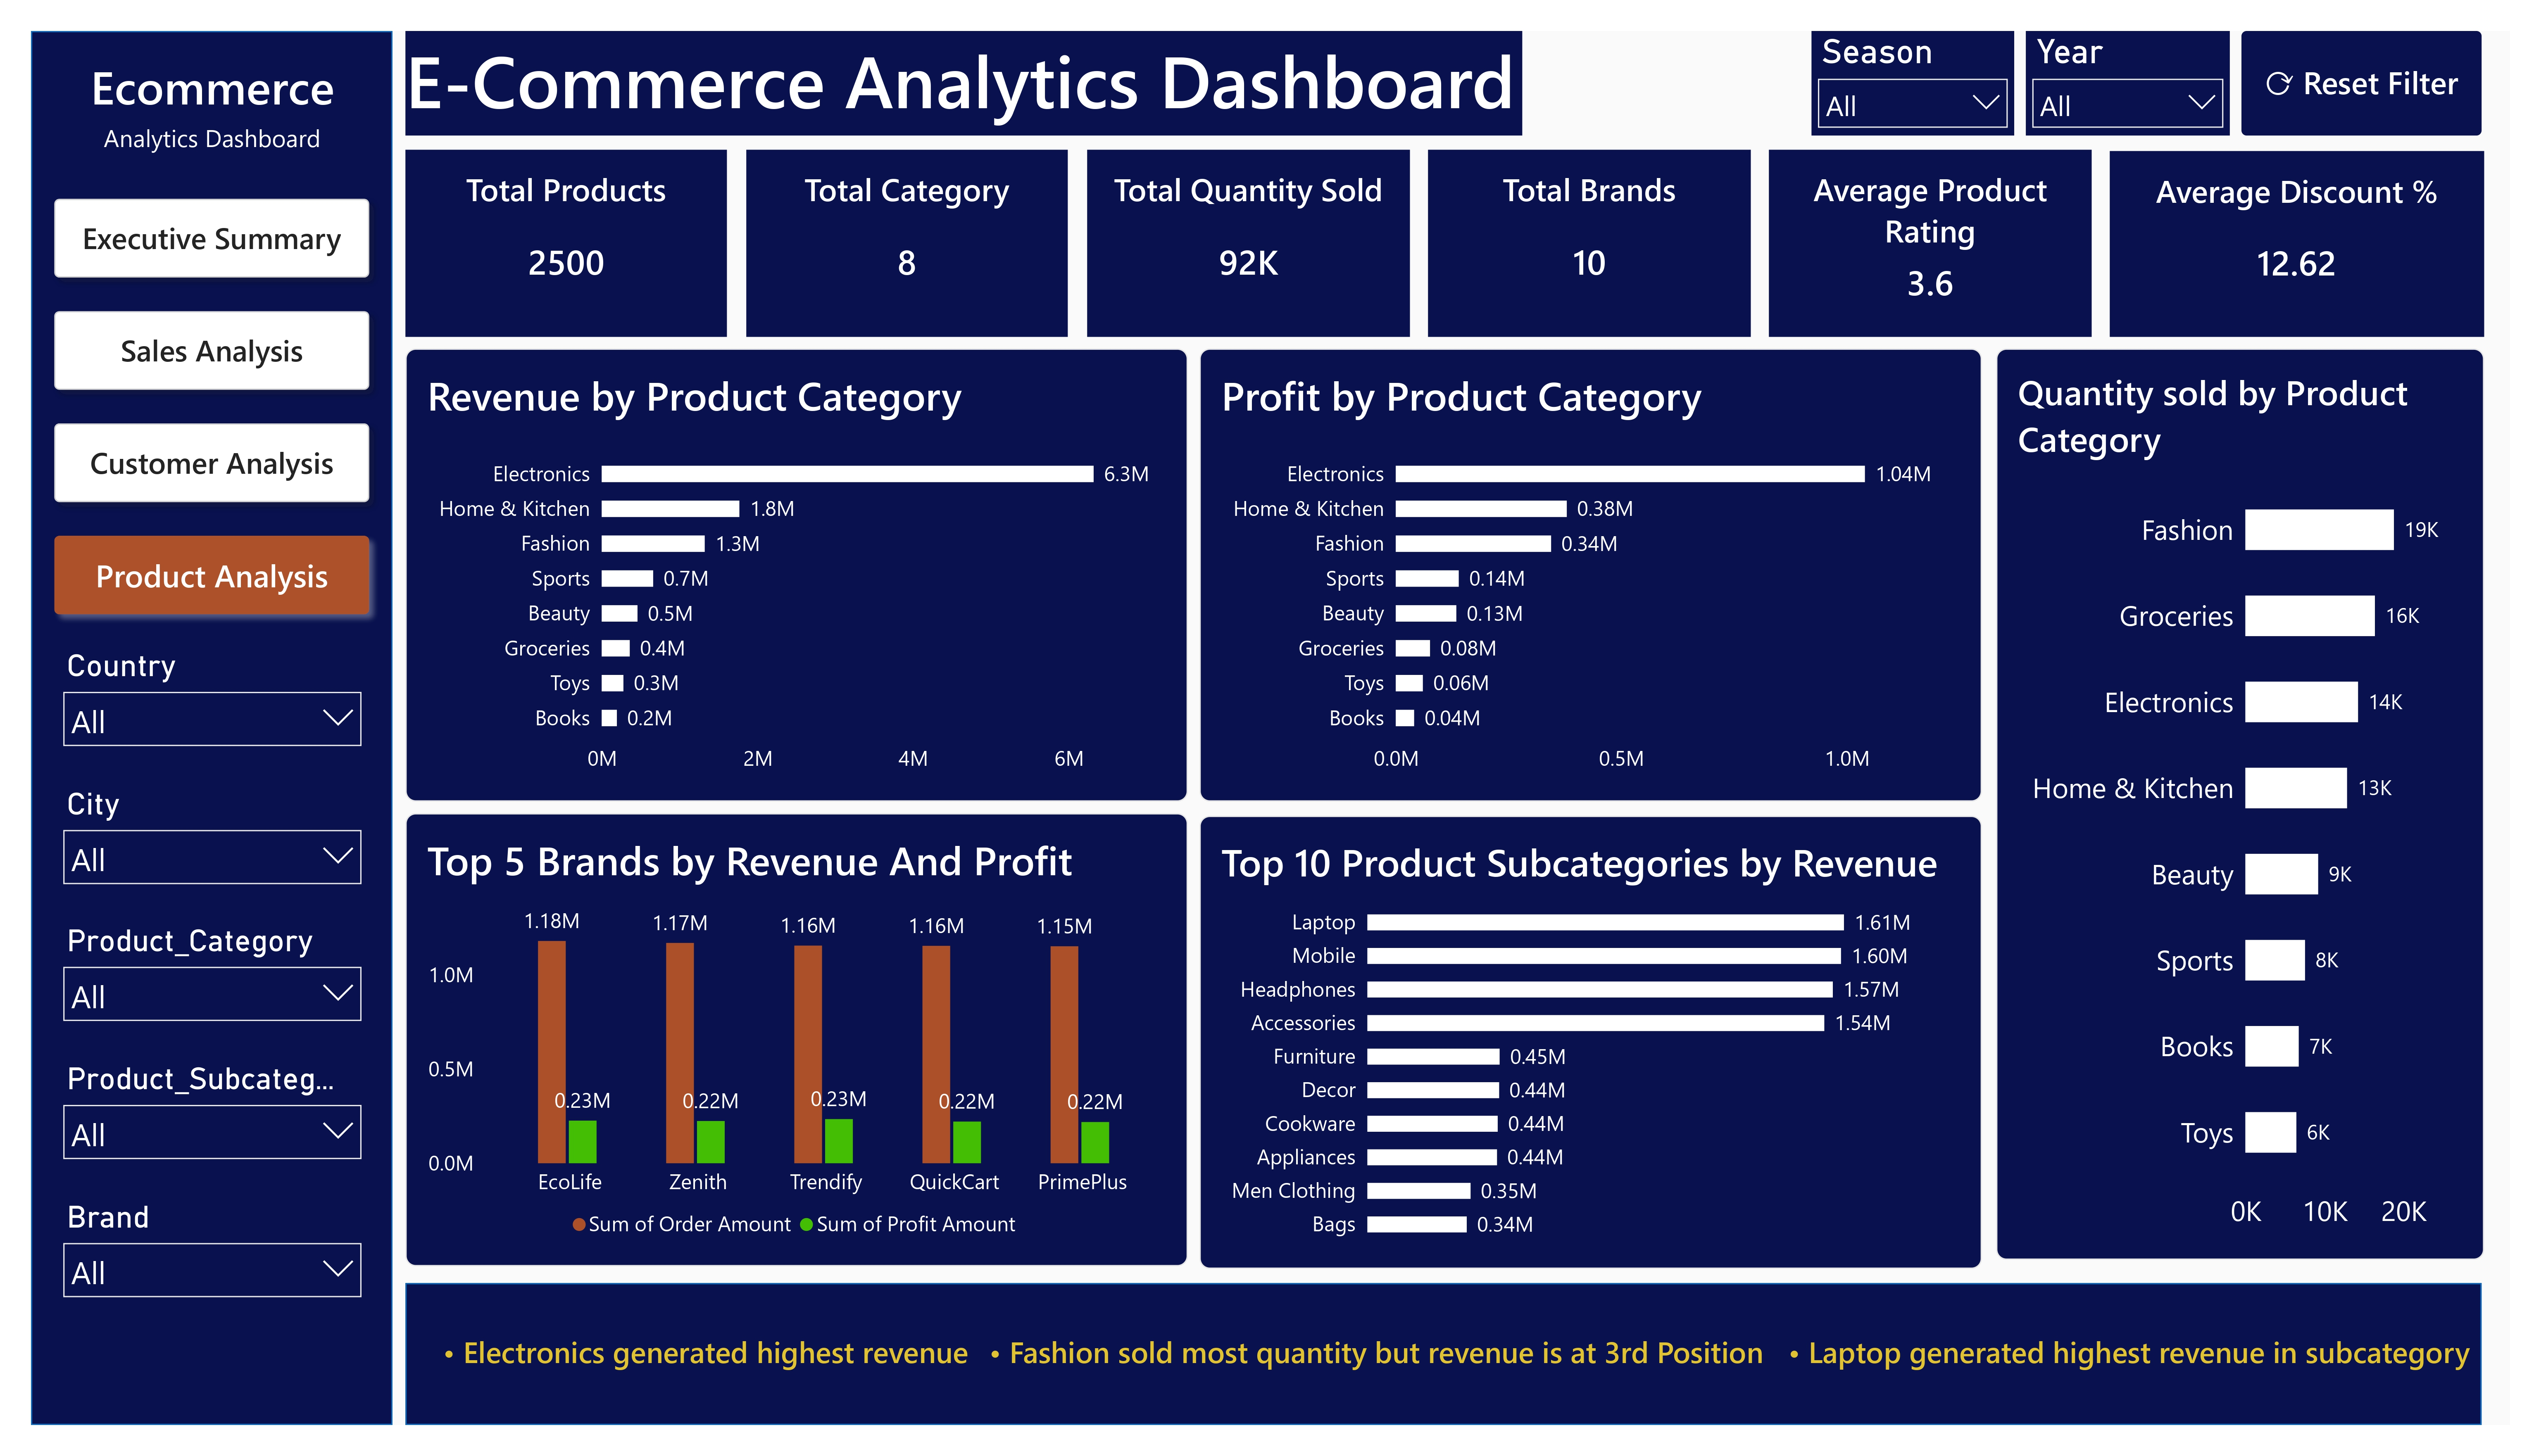

The dashboard page shown, as its layout file describes it:
{"tool":"powerbi","page":{"name":"Product Analysis","canvas":[1920,1080],"ordinal":3},"visuals":[{"type":"shape","box":[0,0,279.9,1080],"z":0},{"type":"textbox","title":"Ecommerce","box":[19.9,18.1,240.7,86.9],"z":1000},{"type":"pageNavigator","box":[9,121.2,262.4,340.2],"z":2000},{"type":"textbox","title":"E-Commerce Analytics Dashboard","box":[289.5,0,865,81.4],"z":3000},{"type":"slicer","fields":{"Values":["Ecommerce_DB.Country"]},"box":[19.9,477.8,240.7,92.3],"z":4000},{"type":"slicer","fields":{"Values":["Ecommerce_DB.City"]},"box":[19.9,584.5,240.7,92.3],"z":5000},{"type":"slicer","fields":{"Values":["Ecommerce_DB.Product_Category"]},"box":[19.9,691.3,240.7,92.3],"z":6000},{"type":"slicer","fields":{"Values":["Ecommerce_DB.Product_Subcategory"]},"box":[19.9,798.1,240.7,92.3],"z":7000},{"type":"slicer","fields":{"Values":["Ecommerce_DB.Brand"]},"box":[19.9,904.8,240.7,92.3],"z":8000},{"type":"shape","title":"Executive Insights","box":[289.5,970,1608.8,110.4],"z":9000},{"type":"card","title":"Total Products","fields":{"Values":["Table.Total_Products"]},"box":[289.5,92.3,249.7,144.8],"z":10000},{"type":"card","title":"Total Category","fields":{"Values":["Table.Total_Categories"]},"box":[553.8,92.3,249.7,144.8],"z":11000},{"type":"card","title":"Total Quantity Sold","fields":{"Values":["Table.total_quantity_sold"]},"box":[818,92.3,249.7,144.8],"z":12000},{"type":"card","title":"Total Brands","fields":{"Values":["Table.total_brands"]},"box":[1082.2,92.3,249.7,144.8],"z":13000},{"type":"card","title":"Average Product Rating","fields":{"Values":["Table.Average_Product_Rating"]},"box":[1346.4,92.3,249.7,144.8],"z":14000},{"type":"card","title":"Average Discount %","fields":{"Values":["Table.Average_Discount_rating"]},"box":[1609.6,92.6,290.2,144.1],"z":15000},{"type":"slicer","fields":{"Values":["Ecommerce_DB.Year"]},"box":[1545.5,0,157.4,81.4],"z":16000},{"type":"barChart","title":"Revenue by Product Category","fields":{"Category":["Ecommerce_DB.Product_Category"],"Y":["Sum(Ecommerce_DB.Order_Amount)"]},"box":[289.5,246.1,606.2,351.1],"z":17000},{"type":"slicer","fields":{"Values":["Ecommerce_DB.Season"]},"box":[1379,0,157.4,81.4],"z":18000},{"type":"barChart","title":"Profit by Product Category","fields":{"Category":["Ecommerce_DB.Product_Category"],"Y":["Sum(Ecommerce_DB.Profit_Amount)"]},"box":[904.8,246.1,606.2,351.1],"z":19000},{"type":"barChart","title":"Quantity sold by Product Category ","fields":{"Category":["Ecommerce_DB.Product_Category"],"Y":["Sum(Ecommerce_DB.Quantity)"]},"box":[1521.9,246.1,378.2,705.8],"z":20000},{"type":"clusteredColumnChart","title":"Top 5 Brands by Revenue And Profit","fields":{"Category":["Ecommerce_DB.Brand"],"Y":["Sum(Ecommerce_DB.Order_Amount)","Sum(Ecommerce_DB.Profit_Amount)"]},"box":[289.5,606.2,606.2,351.1],"z":21000},{"type":"barChart","title":"Top 10 Product Subcategories by Revenue","fields":{"Category":["Ecommerce_DB.Product_Subcategory"],"Y":["Sum(Ecommerce_DB.Order_Amount)"]},"box":[904.8,608,606.2,351.1],"z":22000},{"type":"textbox","title":"• Electronics generated highest revenue","box":[318.5,1008,409,36.2],"z":23000},{"type":"textbox","title":"• Fashion sold most quantity but revenue is at 3rd Position","box":[742,1008,600.8,34.4],"z":24000},{"type":"textbox","title":"• Laptop generated highest revenue in subcategory","box":[1360.9,1008,532,34.4],"z":25000},{"type":"actionButton","box":[1711.9,0,186.4,81.4],"z":25001}]}

Visuals, with their boxes on the page's 1920x1080 design canvas (x1, y1, x2, y2). These are canvas units, not pixel positions in the 2541x1456 screenshot, which may show the page scaled, cropped or inside an application window:
shape: (0, 0, 280, 1080)
"Ecommerce" textbox: (20, 18, 261, 105)
pageNavigator: (9, 121, 271, 461)
"E-Commerce Analytics Dashboard" textbox: (290, 0, 1154, 81)
slicer - Ecommerce_DB.Country: (20, 478, 261, 570)
slicer - Ecommerce_DB.City: (20, 584, 261, 677)
slicer - Ecommerce_DB.Product_Category: (20, 691, 261, 784)
slicer - Ecommerce_DB.Product_Subcategory: (20, 798, 261, 890)
slicer - Ecommerce_DB.Brand: (20, 905, 261, 997)
"Executive Insights" shape: (290, 970, 1898, 1080)
"Total Products" card: (290, 92, 539, 237)
"Total Category" card: (554, 92, 804, 237)
"Total Quantity Sold" card: (818, 92, 1068, 237)
"Total Brands" card: (1082, 92, 1332, 237)
"Average Product Rating" card: (1346, 92, 1596, 237)
"Average Discount %" card: (1610, 93, 1900, 237)
slicer - Ecommerce_DB.Year: (1546, 0, 1703, 81)
"Revenue by Product Category" barChart: (290, 246, 896, 597)
slicer - Ecommerce_DB.Season: (1379, 0, 1536, 81)
"Profit by Product Category" barChart: (905, 246, 1511, 597)
"Quantity sold by Product Category " barChart: (1522, 246, 1900, 952)
"Top 5 Brands by Revenue And Profit" clusteredColumnChart: (290, 606, 896, 957)
"Top 10 Product Subcategories by Revenue" barChart: (905, 608, 1511, 959)
"• Electronics generated highest revenue" textbox: (318, 1008, 728, 1044)
"• Fashion sold most quantity but revenue is at 3rd Position" textbox: (742, 1008, 1343, 1042)
"• Laptop generated highest revenue in subcategory" textbox: (1361, 1008, 1893, 1042)
actionButton: (1712, 0, 1898, 81)
